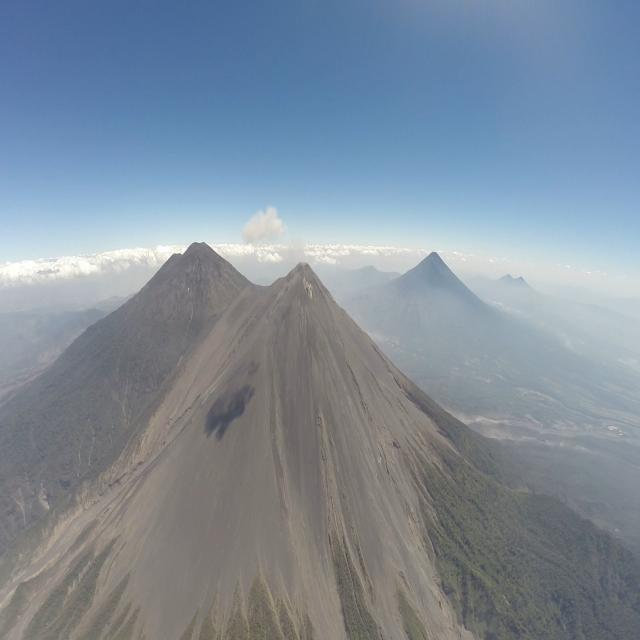Plume: (240, 204, 289, 252)
Summit: (270, 260, 334, 300)
